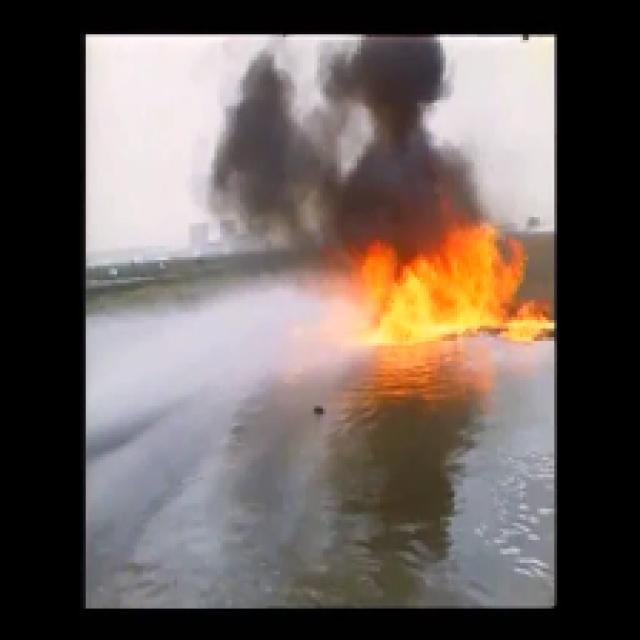Fire: (356, 247, 543, 340)
Smoke: (207, 38, 475, 214)
